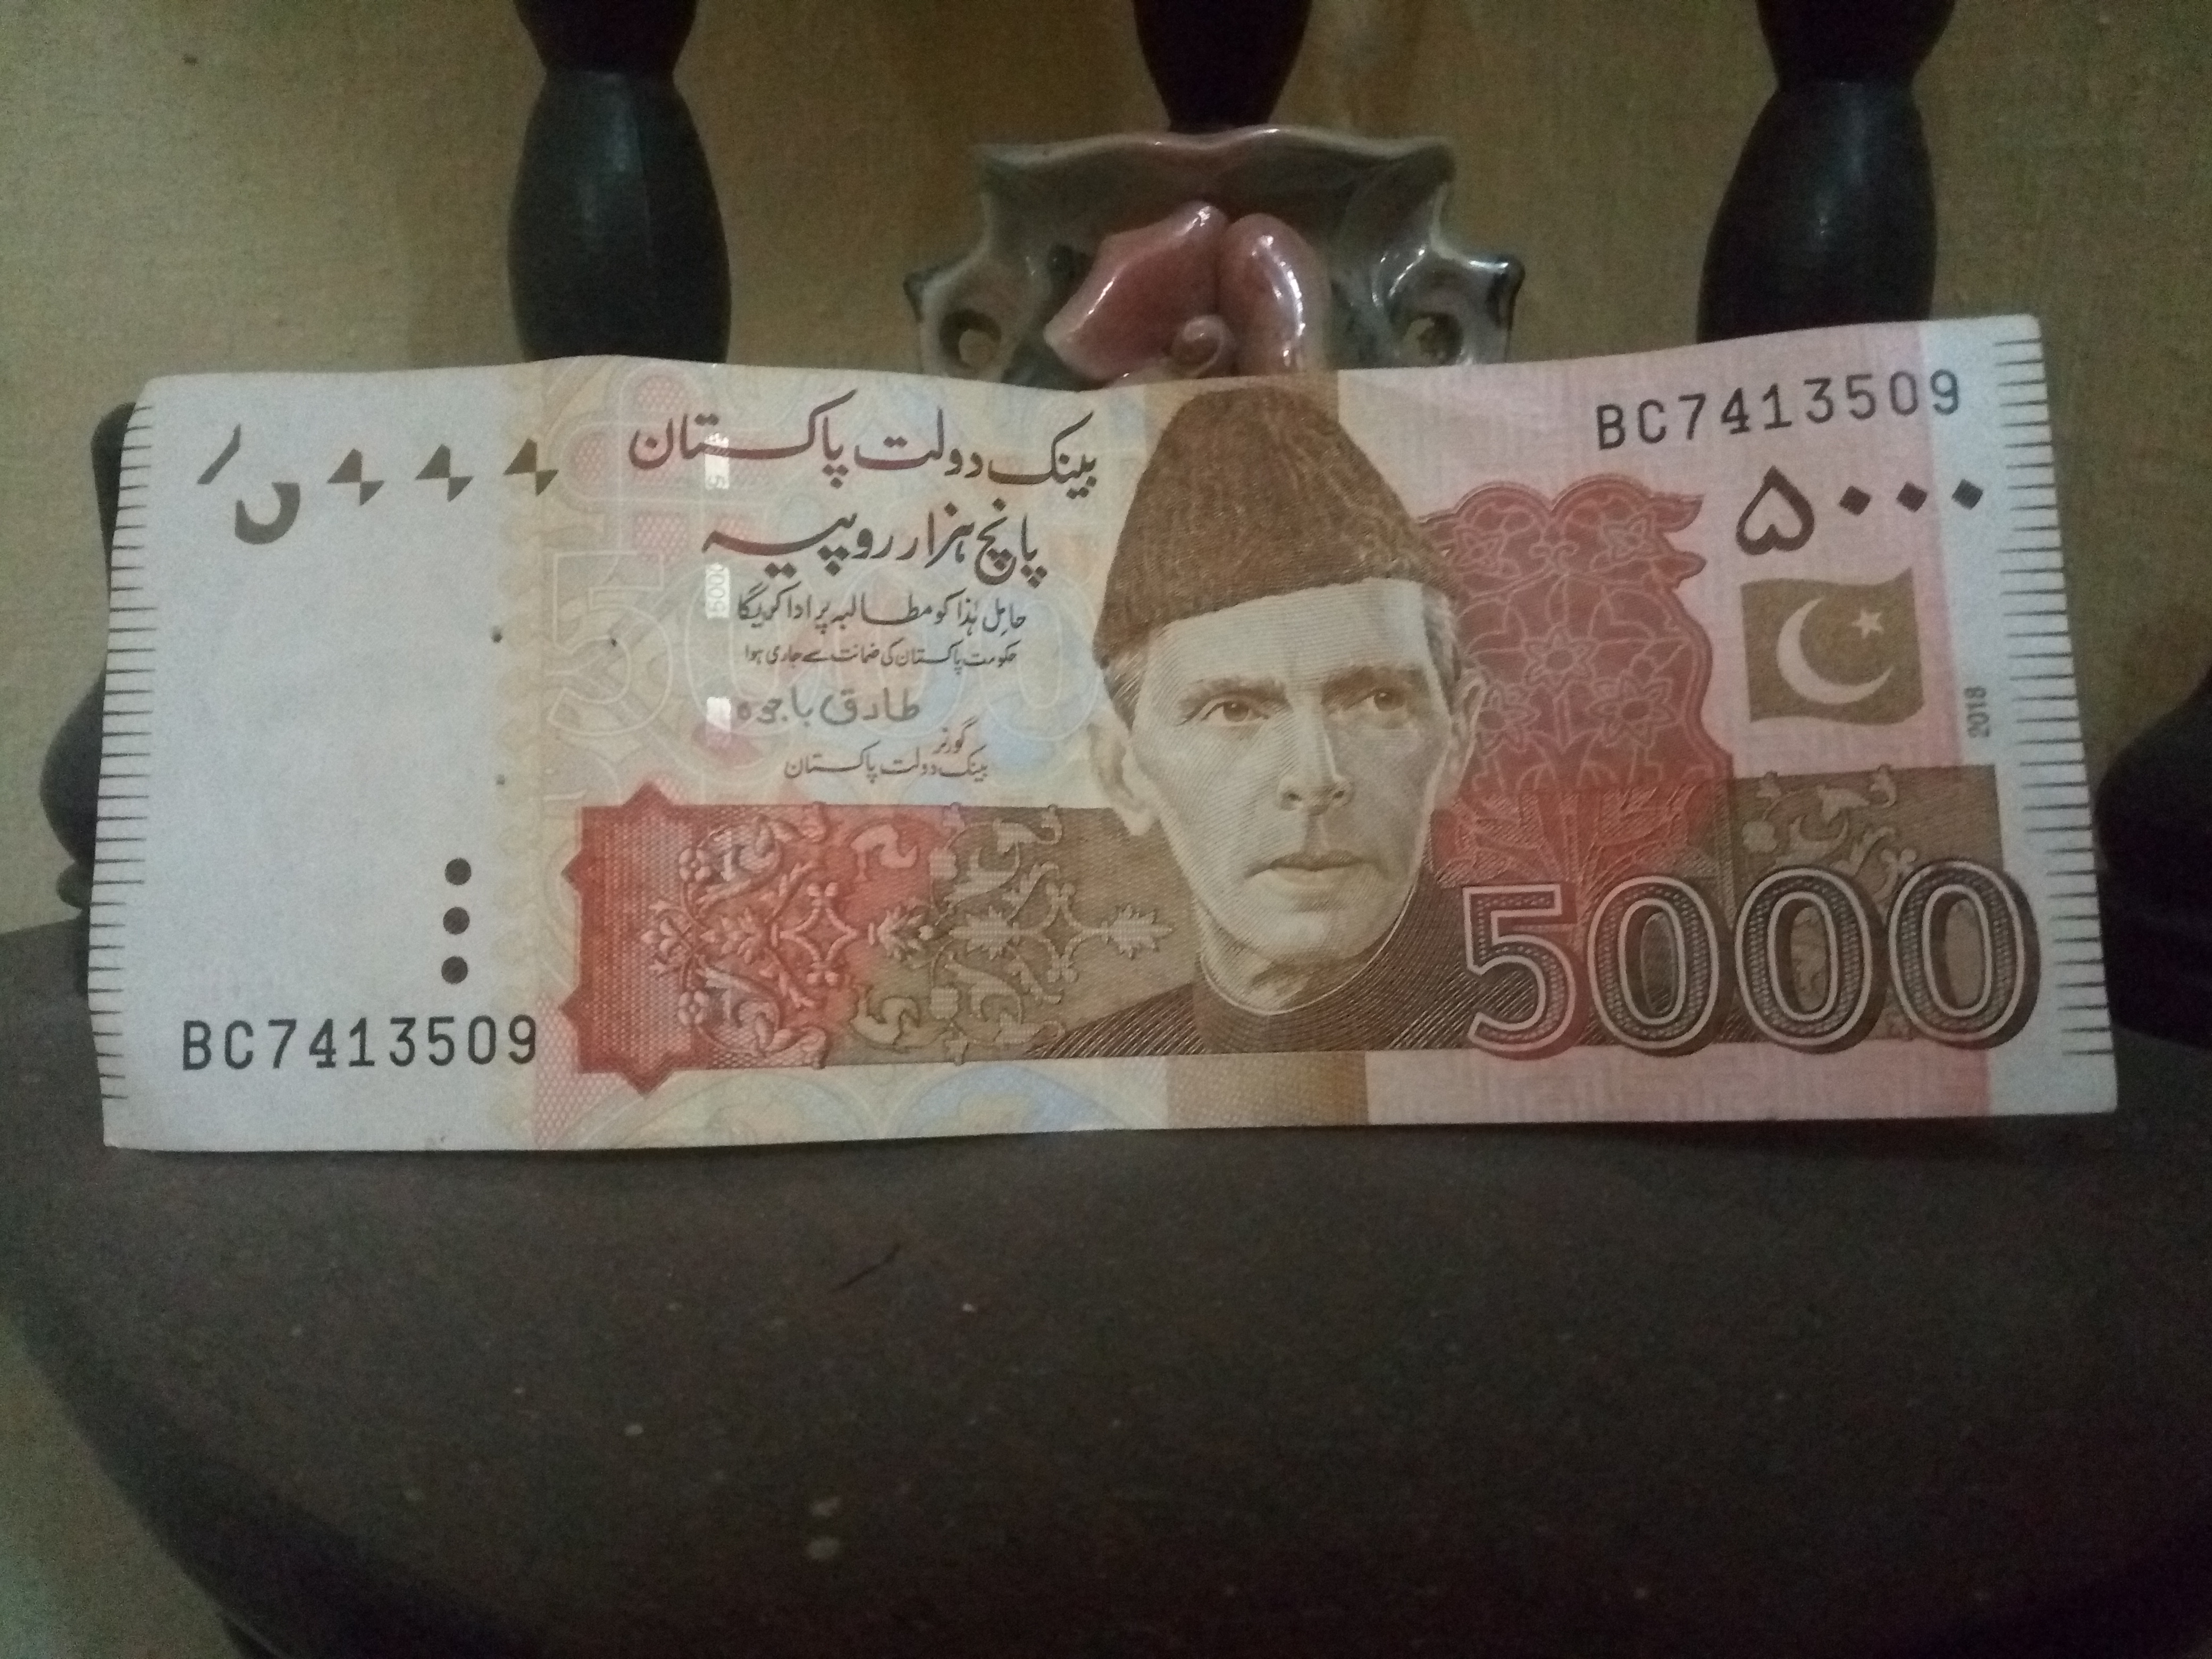5000 rupee: (115, 364, 2101, 1161)
